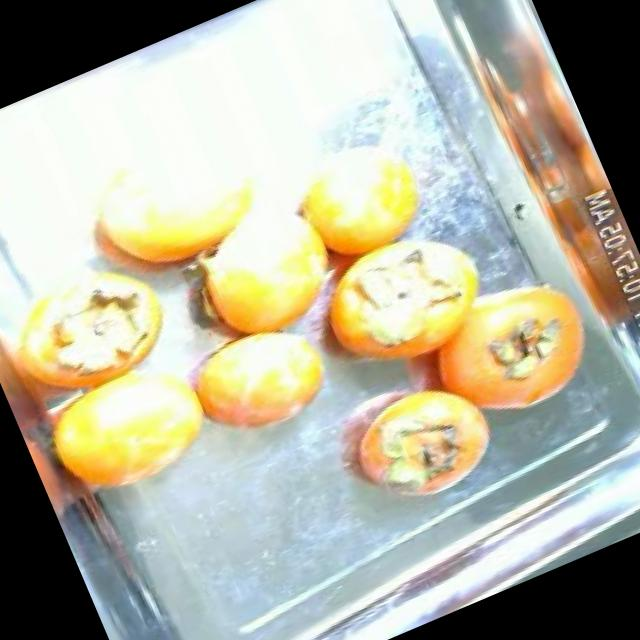Fruit: (387, 241, 626, 456), (306, 346, 522, 534), (258, 106, 460, 299), (160, 293, 358, 468)
